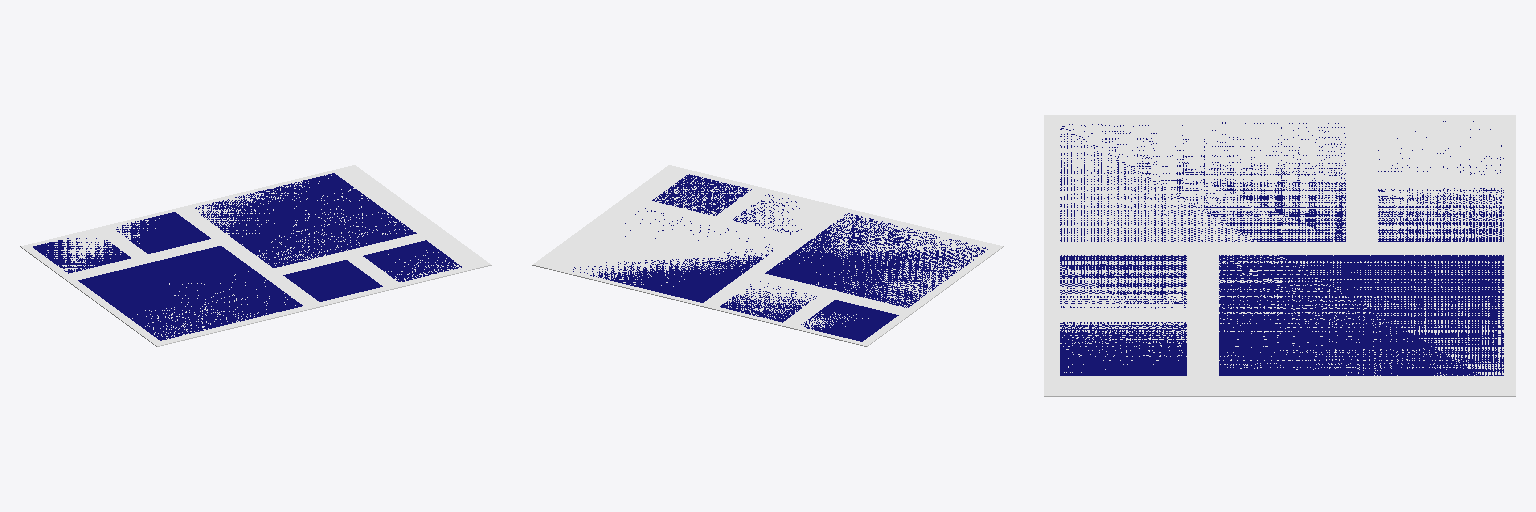
robot.urdf — calibration_2a:
<?xml version="1.0" encoding="utf-8"?>
  
<robot name="calibration_2a">

  <!-- upper left corner of grid  -->
  <link name="calibration_2a_base_link">
    <visual>  
     <origin xyz ="0.21 0.1485 0" rpy ="0 0 0"/>
     <geometry>
       <box size="0.42 0.297 1e-3" />
     </geometry>
     <material name="TransparentWhite">
       <color rgba="1 1 1 0.2"/>
     </material>
   </visual>
  </link>

  <!-- aruco 913 -->
  <link name="aruco_913">
    <visual>  
     <geometry>
       <box size="0.18 0.18 0.001" />
     </geometry>
     <material name="DarkBlue">
       <color rgba="0.1 0.1 0.5 0.8"/>
     </material>
   </visual>
  </link>

  <!-- aruco 914   -->
  <link name="aruco_914">
    <visual>  
     <geometry>
       <box size="0.08 0.08 0.001" />
     </geometry>
     <material name="DarkBlue">
       <color rgba="0.1 0.1 0.5 0.8"/>
     </material>
   </visual>
  </link>

  <!-- aruco 915   -->
  <link name="aruco_915">
    <visual>  
     <geometry>
       <box size="0.08 0.08 0.001" />
     </geometry>
     <material name="DarkBlue">
       <color rgba="0.1 0.1 0.5 0.8"/>
     </material>
   </visual>
  </link>

  <!-- aruco 916   -->
  <link name="aruco_916">
    <visual>  
     <geometry>
       <box size="0.08 0.08 0.001" />
     </geometry>
     <material name="DarkBlue">
       <color rgba="0.1 0.1 0.5 0.8"/>
     </material>
   </visual>
  </link>

  <!-- aruco 917   -->
  <link name="aruco_917">
    <visual>  
     <geometry>
       <box size="0.08 0.08 0.001" />
     </geometry>
     <material name="DarkBlue">
       <color rgba="0.1 0.1 0.5 0.8"/>
     </material>
   </visual>
  </link>

  <!-- aruco 918   -->
  <link name="aruco_918">
    <visual>  
     <geometry>
       <box size="0.18 0.18 0.001" />
     </geometry>
     <material name="DarkBlue">
       <color rgba="0.1 0.1 0.5 0.8"/>
     </material>
   </visual>
  </link>

  <!-- position aruco markers -->
  <joint name="base_link-aruco_913" type="fixed">
    <origin rpy="0 0 0" xyz="0.1 0.1 0"/>
    <parent link="calibration_2a_base_link"/>
    <child link="aruco_913"/>
  </joint>

  <joint name="base_link-aruco_914" type="fixed">
    <origin rpy="0 0 0" xyz="0.05 0.25 0"/>
    <parent link="calibration_2a_base_link"/>
    <child link="aruco_914"/>
  </joint>

  <joint name="base_link-aruco_915" type="fixed">
    <origin rpy="0 0 0" xyz="0.15 0.25 0"/>
    <parent link="calibration_2a_base_link"/>
    <child link="aruco_915"/>
  </joint>

  <joint name="base_link-aruco_916" type="fixed">
    <origin rpy="0 0 0" xyz="0.25 0.05 0"/>
    <parent link="calibration_2a_base_link"/>
    <child link="aruco_916"/>
  </joint>

  <joint name="base_link-aruco_917" type="fixed">
    <origin rpy="0 0 0" xyz="0.35 0.05 0"/>
    <parent link="calibration_2a_base_link"/>
    <child link="aruco_917"/>
  </joint>

  <joint name="base_link-aruco_918" type="fixed">
    <origin rpy="0 0 0" xyz="0.3 0.2 0"/>
    <parent link="calibration_2a_base_link"/>
    <child link="aruco_918"/>
  </joint>

</robot>

--- What the picture shows (computed from the rendered views, not written in the file) ---
Views: 3 orthographic renders of the robot side by side, from view 1: azimuth 30°, elevation 25°; view 2: azimuth 150°, elevation 25°; view 3: azimuth 270°, elevation 25°.
Model calibration_2a with 7 links and 6 joints (6 fixed), rooted at calibration_2a_base_link, posed all joints at 0.
Links seen in each view (by area): view 1: calibration_2a_base_link, aruco_913, aruco_918, aruco_916, aruco_917, aruco_915, aruco_914; view 2: calibration_2a_base_link, aruco_913, aruco_918, aruco_914, aruco_917, aruco_915; view 3: calibration_2a_base_link, aruco_918, aruco_913, aruco_917, aruco_916, aruco_915.
Boxes of the visible links, box(x1,y1,x2,y2) form: calibration_2a_base_link: box(20, 165, 491, 346); aruco_913: box(78, 246, 302, 340); aruco_918: box(195, 173, 416, 267); aruco_916: box(283, 260, 382, 301); aruco_917: box(363, 240, 461, 281); aruco_915: box(116, 212, 210, 253); aruco_914: box(33, 238, 130, 273); calibration_2a_base_link: box(532, 165, 1003, 346); aruco_913: box(765, 213, 987, 307); aruco_918: box(573, 208, 772, 302); aruco_914: box(801, 300, 898, 341); aruco_917: box(652, 174, 751, 215); aruco_915: box(720, 281, 816, 322); calibration_2a_base_link: box(1044, 115, 1515, 396); aruco_918: box(1219, 255, 1503, 375); aruco_913: box(1060, 122, 1345, 241); aruco_917: box(1060, 322, 1186, 375); aruco_916: box(1060, 255, 1186, 308); aruco_915: box(1378, 188, 1503, 241).
Bounding box of the posed robot: 0.42 × 0.297 × 0.001 m (x, y, z).
Geometry: primitives only (box / cylinder / sphere), no mesh files.
